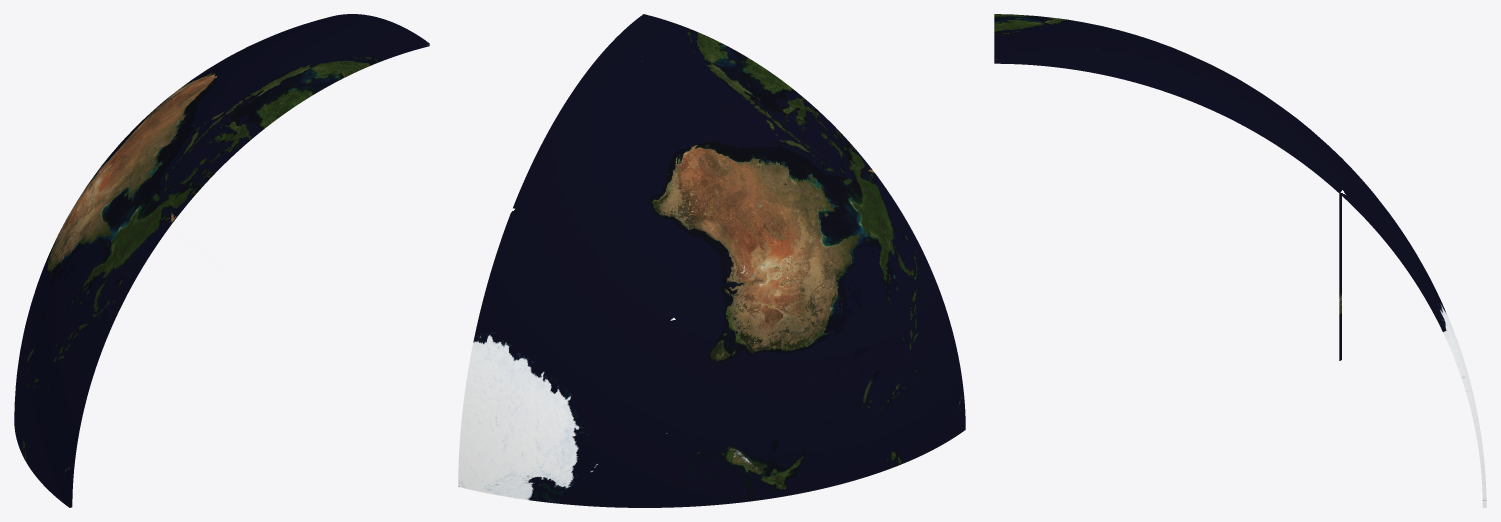
The picture shows the model from 3 angles, left to right: view 1: azimuth 30°, elevation 25°; view 2: azimuth 150°, elevation 25°; view 3: azimuth 270°, elevation 25°; orthographic projection. The views are drawn at different scales.
Visible parts, largest first — view 1: DefaultName.009, DefaultName.012; view 2: DefaultName.009, DefaultName.012, DefaultName.006, DefaultName.003; view 3: DefaultName.012, DefaultName.003.
Part boxes in pixels (<box>): DefaultName.009: <box>14,165,176,507</box>; DefaultName.012: <box>102,14,429,216</box>; DefaultName.009: <box>674,168,965,502</box>; DefaultName.012: <box>513,14,871,316</box>; DefaultName.006: <box>458,318,740,507</box>; DefaultName.003: <box>458,208,673,486</box>; DefaultName.012: <box>994,14,1341,192</box>; DefaultName.003: <box>1339,158,1486,507</box>.
Bounding box in the file's own units: 63781 × 63781 × 63568.
Materials: 4 (4 with a texture image).
